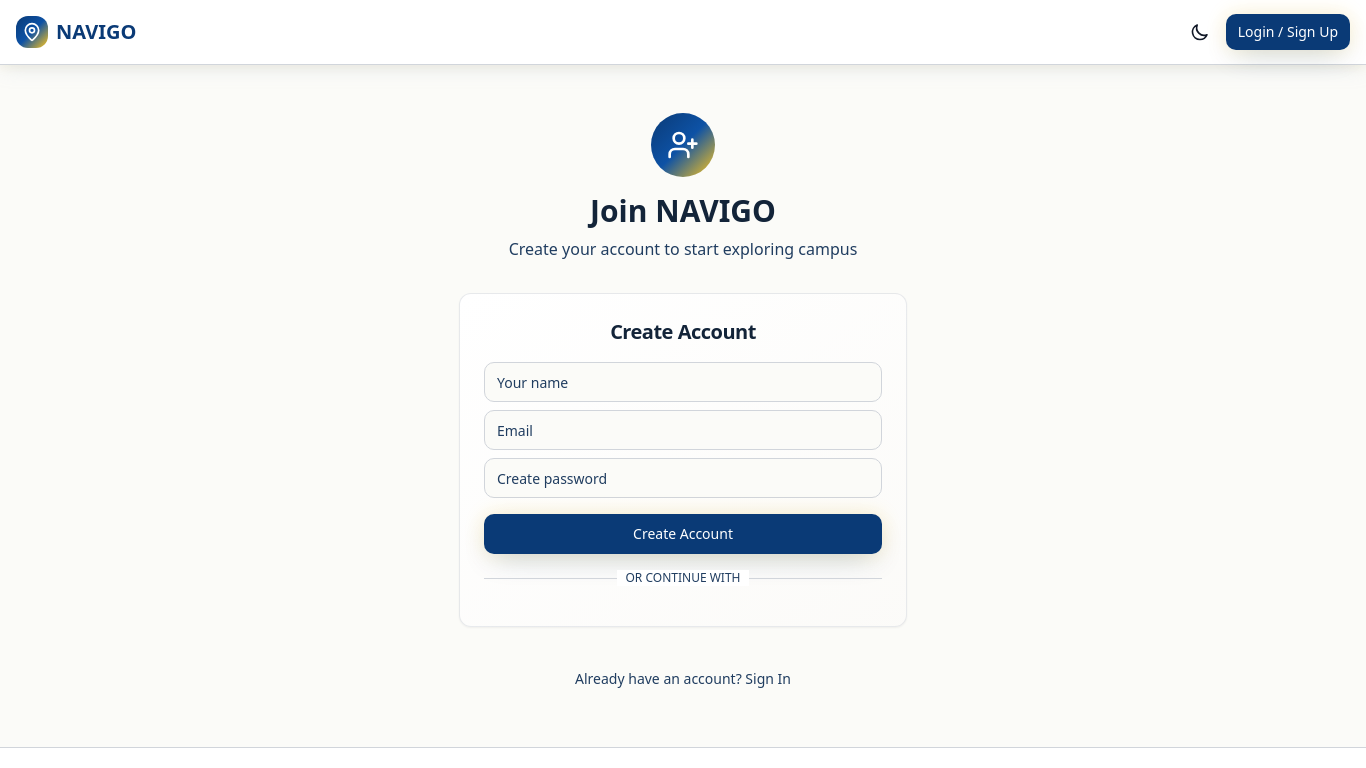
SignUp › handles successful registration
// Fill out the form
Type "Junior Mtolo" into the field with placeholder "Your name" at {"x": 683, "y": 382}, box x1=484 y1=362 x2=882 y2=402
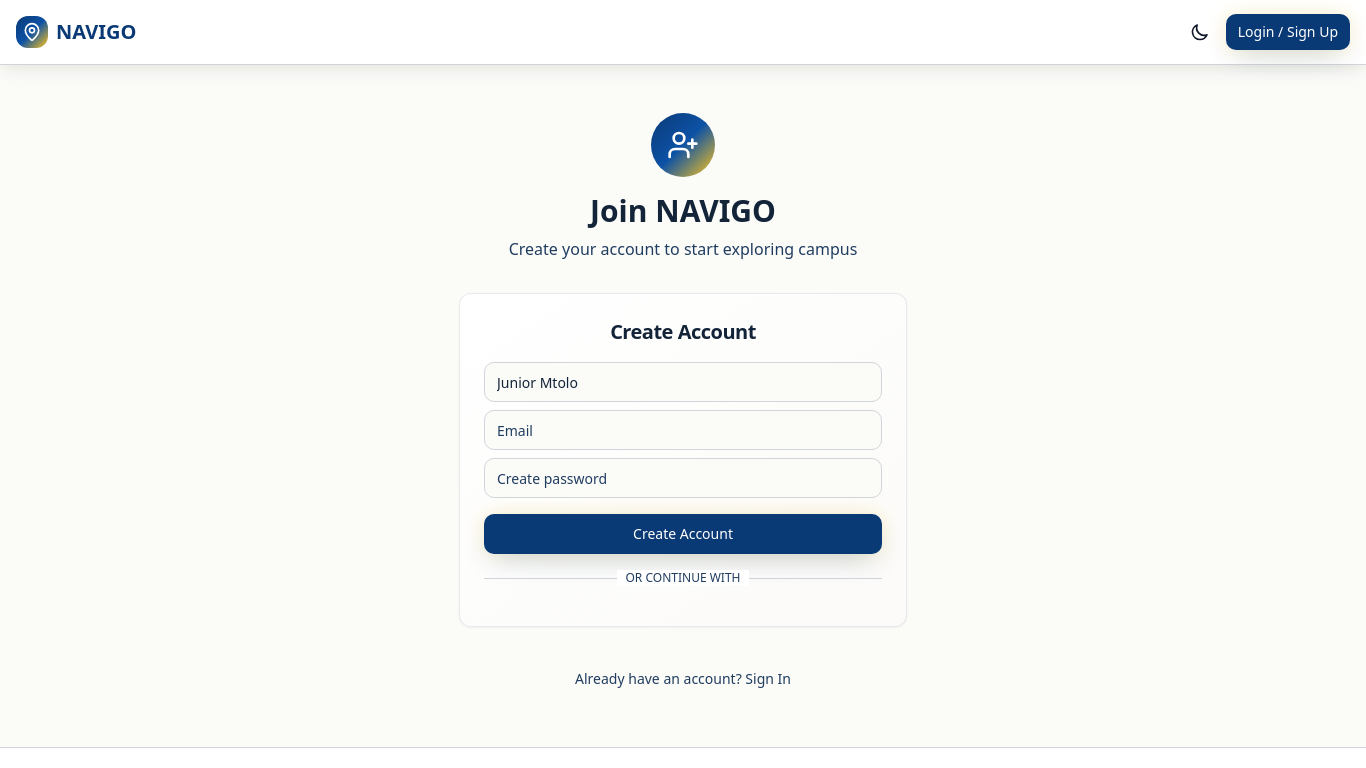
Type "siyabongamtolo0@gmail.com" into the field with placeholder "Email" at {"x": 683, "y": 430}, box x1=484 y1=410 x2=882 y2=450
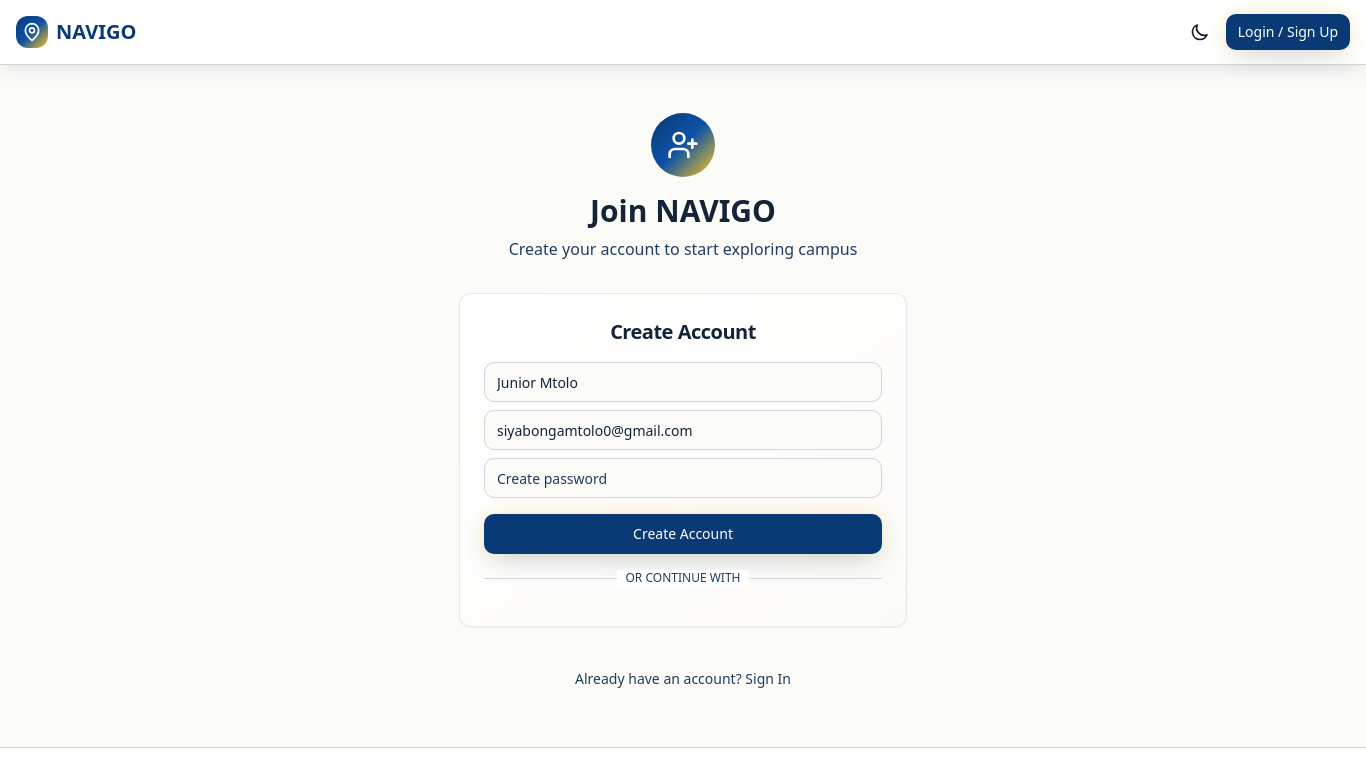
Type "password123" into the password field with placeholder "Create password" at {"x": 683, "y": 478}, box x1=484 y1=458 x2=882 y2=498
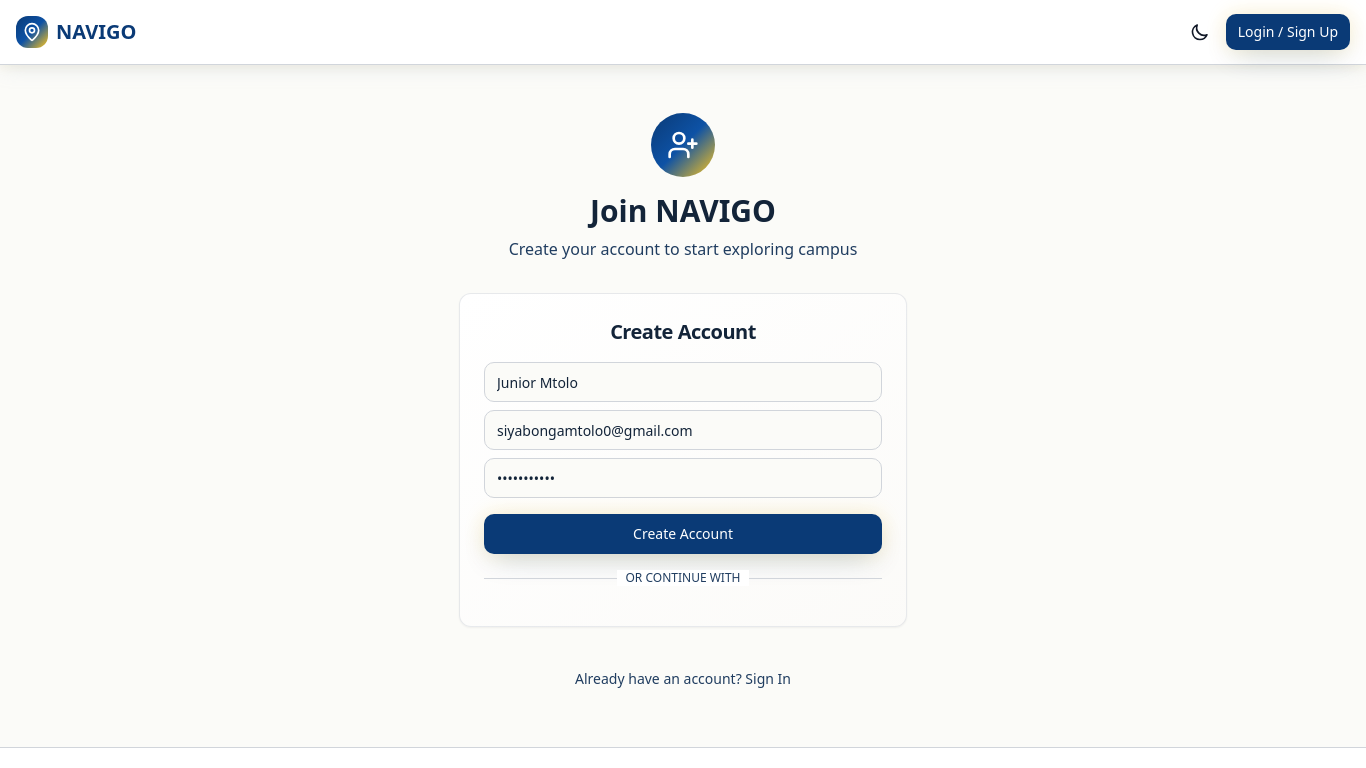
// Submit the form
Click the button "Create Account" at {"x": 683, "y": 534}, box x1=484 y1=514 x2=882 y2=554
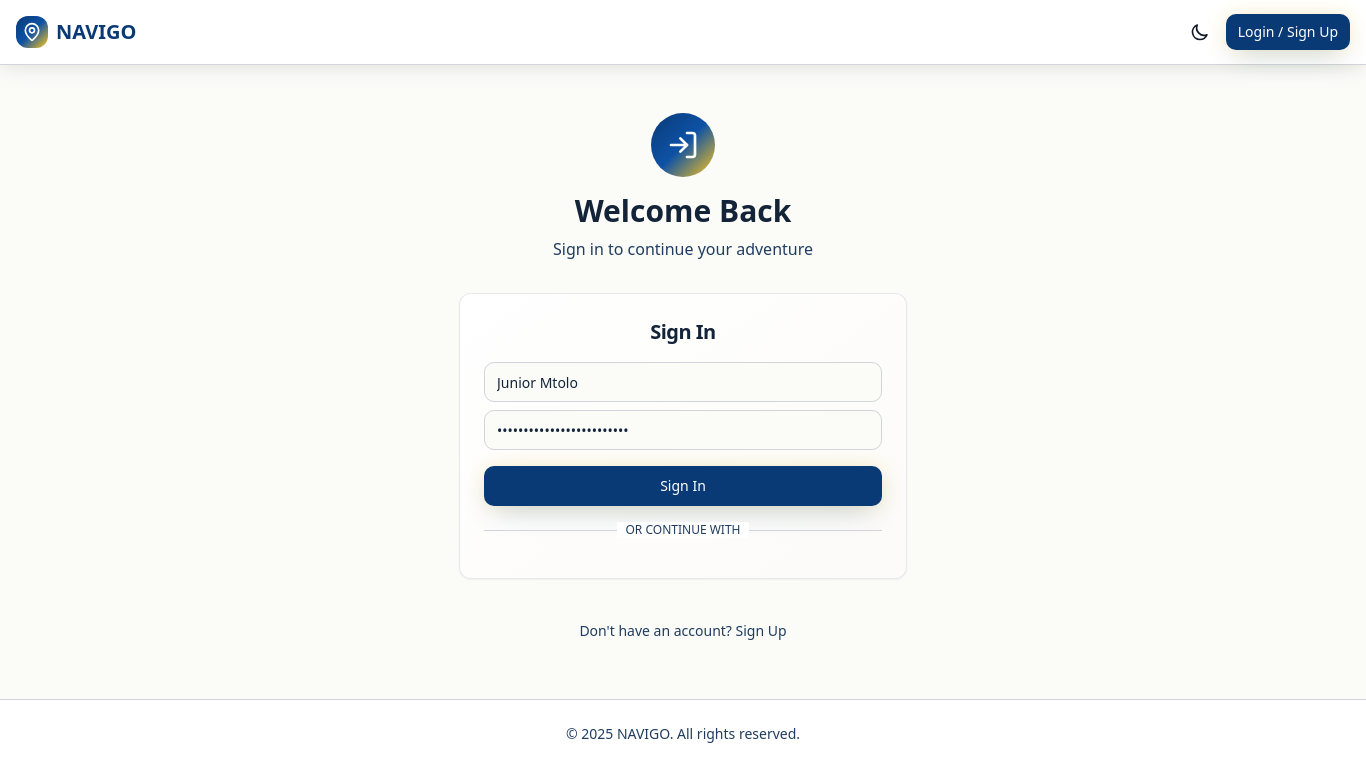
Check: the heading "Welcome Back" is shown, box x1=575 y1=190 x2=791 y2=231
Check: the button "Sign In" is shown, box x1=484 y1=466 x2=882 y2=506
